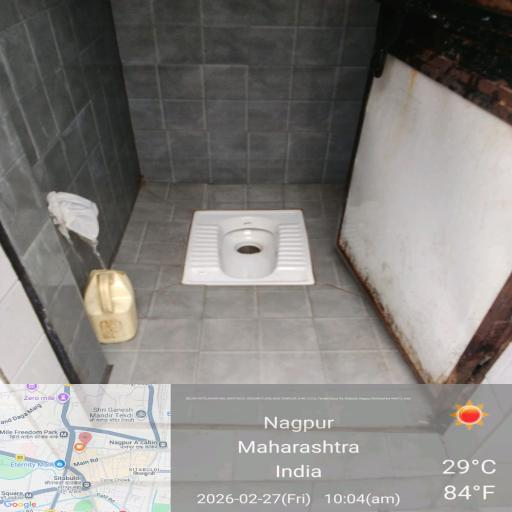clean_floor: (118, 203, 485, 483), (44, 31, 460, 168)
clean_indian: (179, 198, 330, 298)
